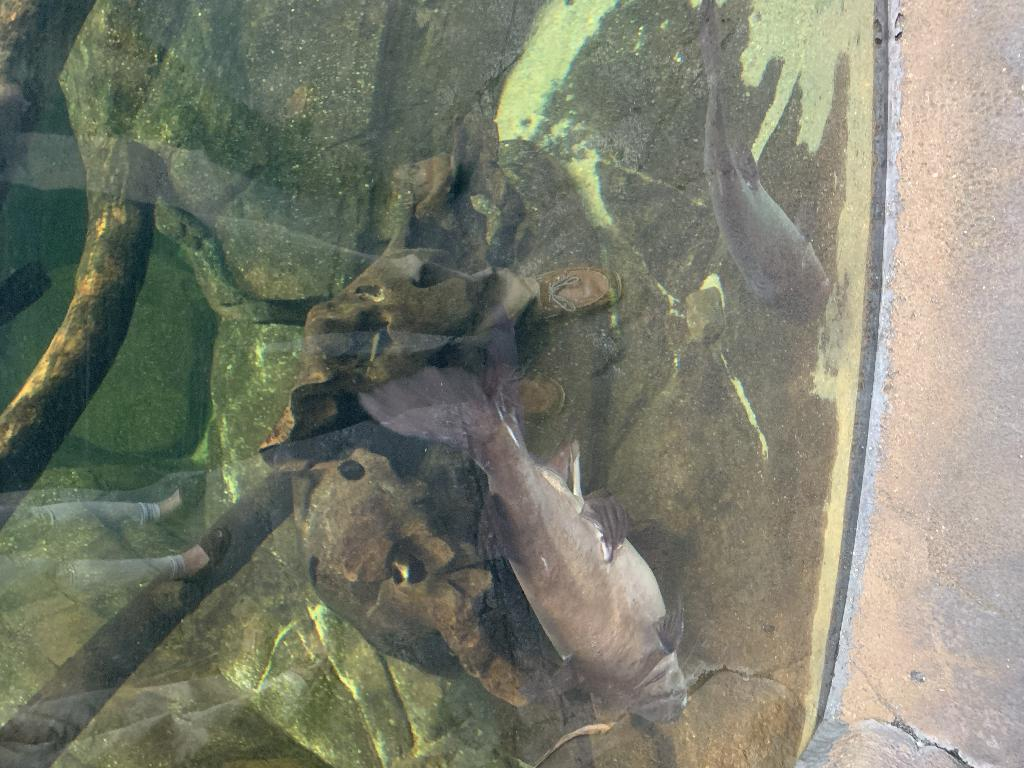fish: (353, 314, 691, 728), (696, 17, 836, 334)
